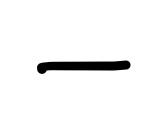minus: (37, 58, 129, 78)
